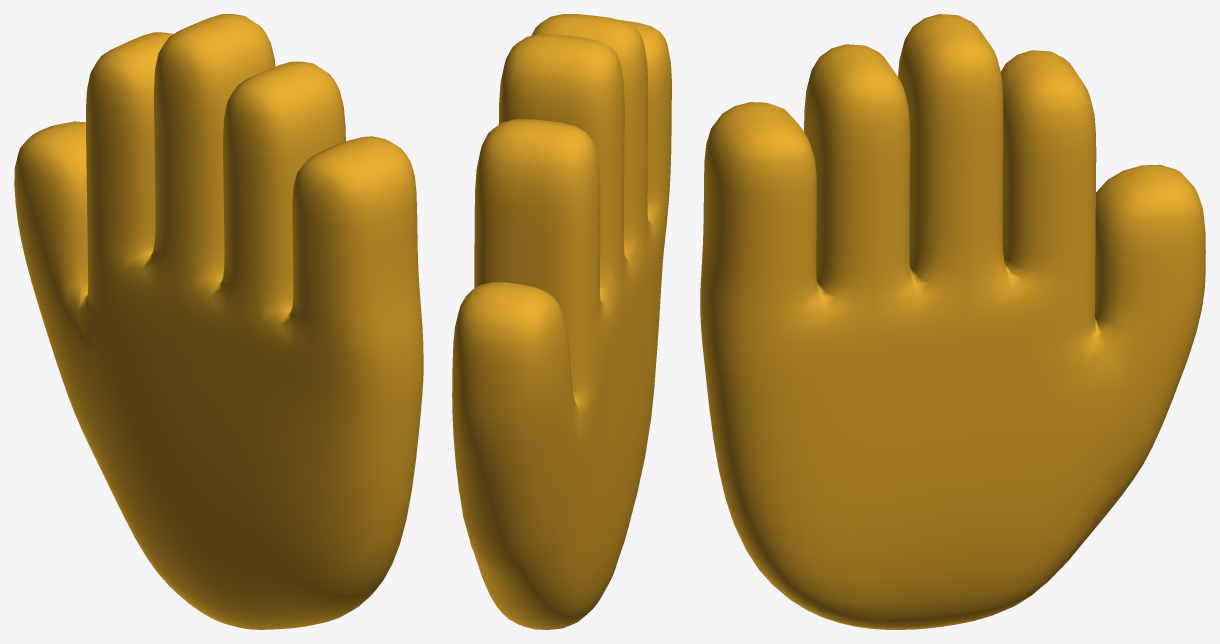
The model's file is hand_anim.fbx.
3 views of the same model, side by side, from view 1: azimuth 30°, elevation 25°; view 2: azimuth 150°, elevation 25°; view 3: azimuth 270°, elevation 25° (orthographic).
Parts seen in each view (by area): view 1: Hand_animat; view 2: Hand_animat; view 3: Hand_animat.
Part boxes in pixels (bbox=[...]): Hand_animat: bbox=[14, 14, 423, 629]; Hand_animat: bbox=[452, 14, 671, 629]; Hand_animat: bbox=[700, 14, 1205, 629].
Size of the model in its own units: 117 by 339 by 262.
